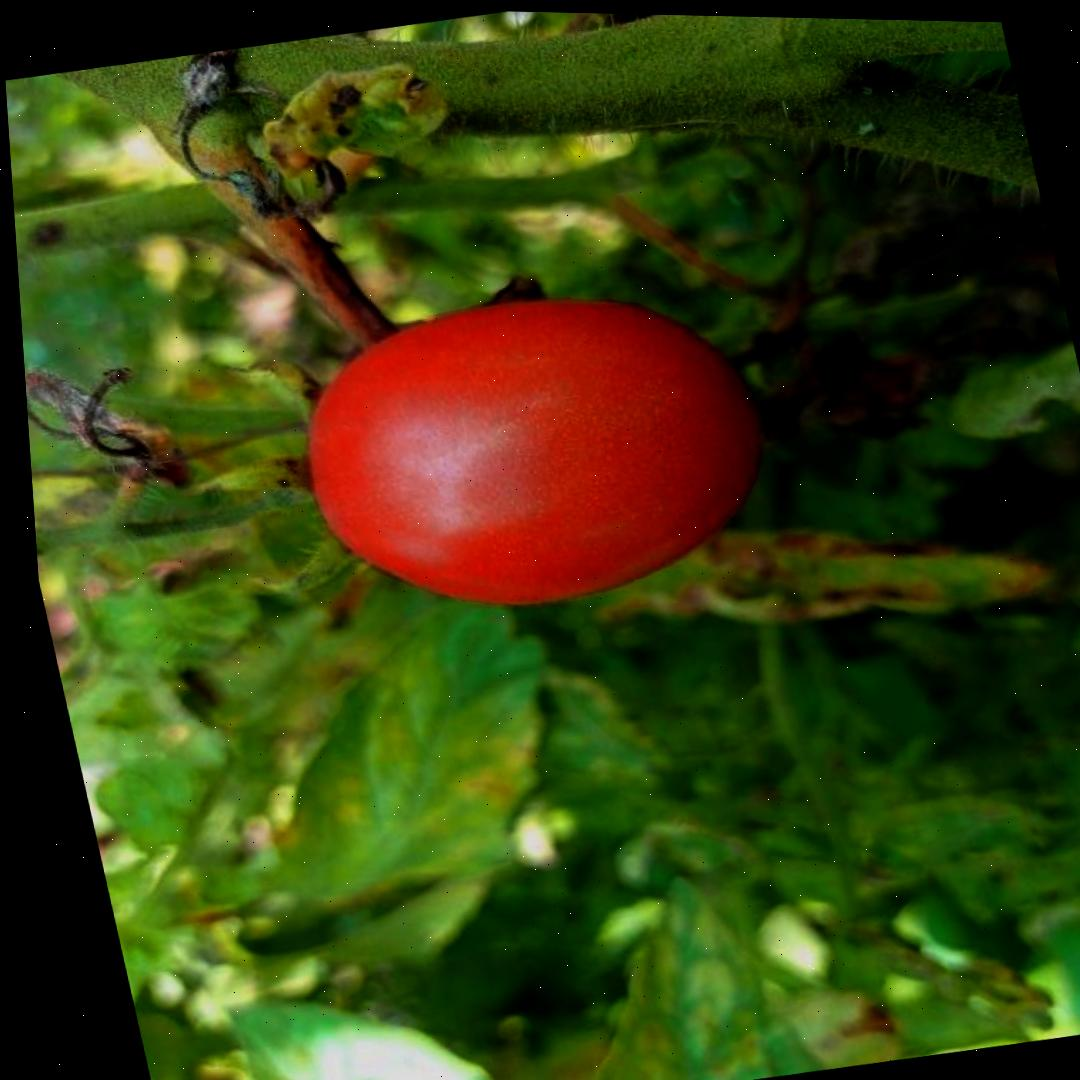setengah_matang: (262, 256, 801, 643)
